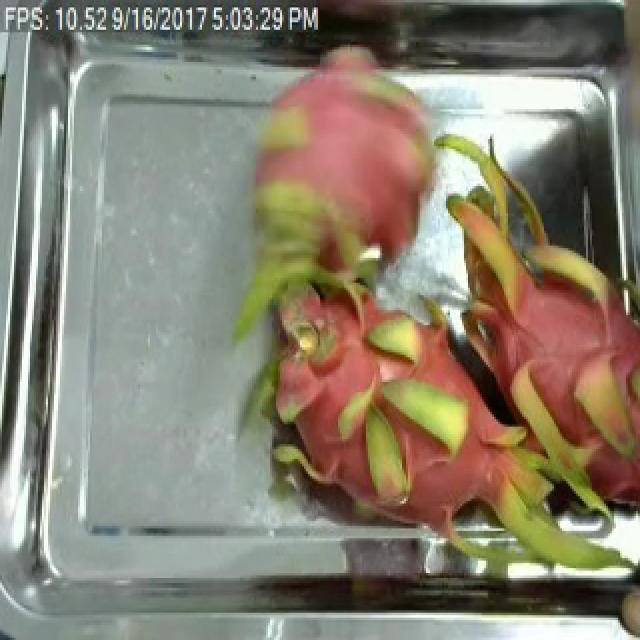Fruit: (606, 558, 640, 640)
